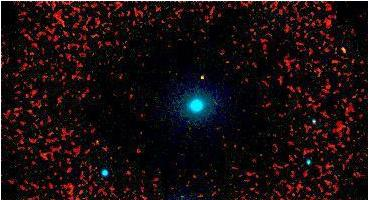star: (188, 62, 218, 92)
